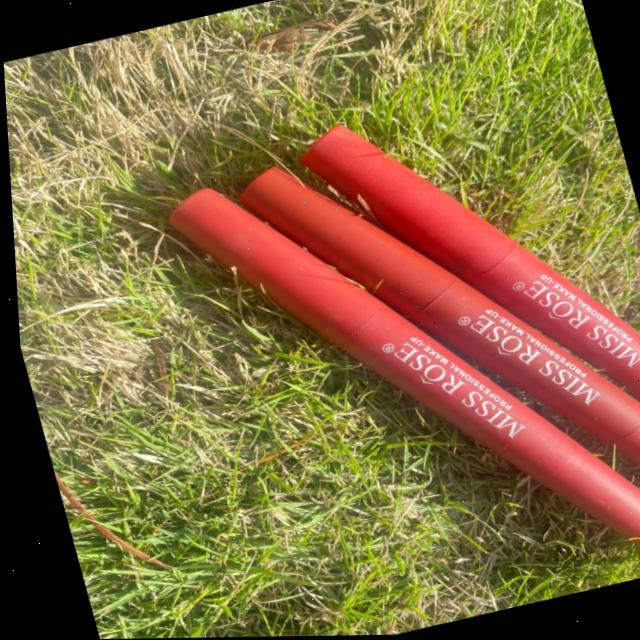lip liner: (108, 57, 640, 639)
